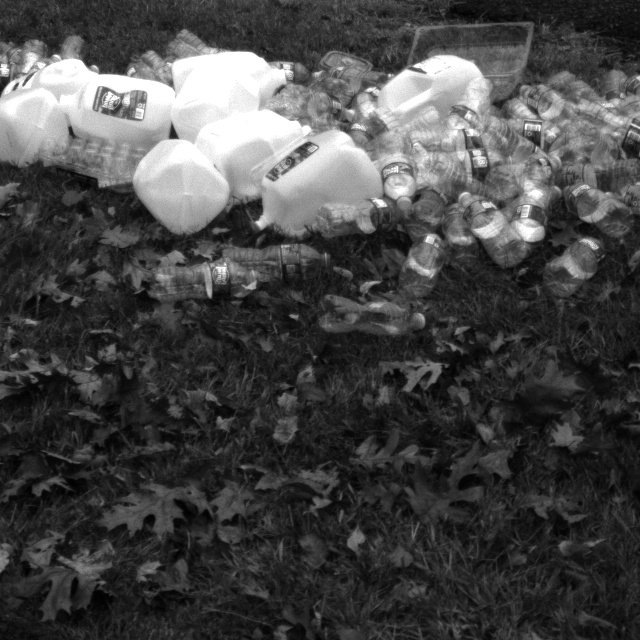bottle: (133, 255, 301, 314), (451, 172, 532, 265), (457, 103, 578, 160), (552, 148, 628, 231), (547, 226, 625, 302), (392, 215, 466, 293), (421, 143, 530, 188), (587, 98, 640, 174)
can: (251, 124, 401, 234), (54, 53, 194, 152), (187, 102, 299, 212), (352, 52, 490, 141), (176, 24, 285, 131), (135, 136, 226, 238), (0, 88, 73, 164)
container: (397, 8, 559, 102), (32, 114, 145, 208), (294, 39, 380, 107)
